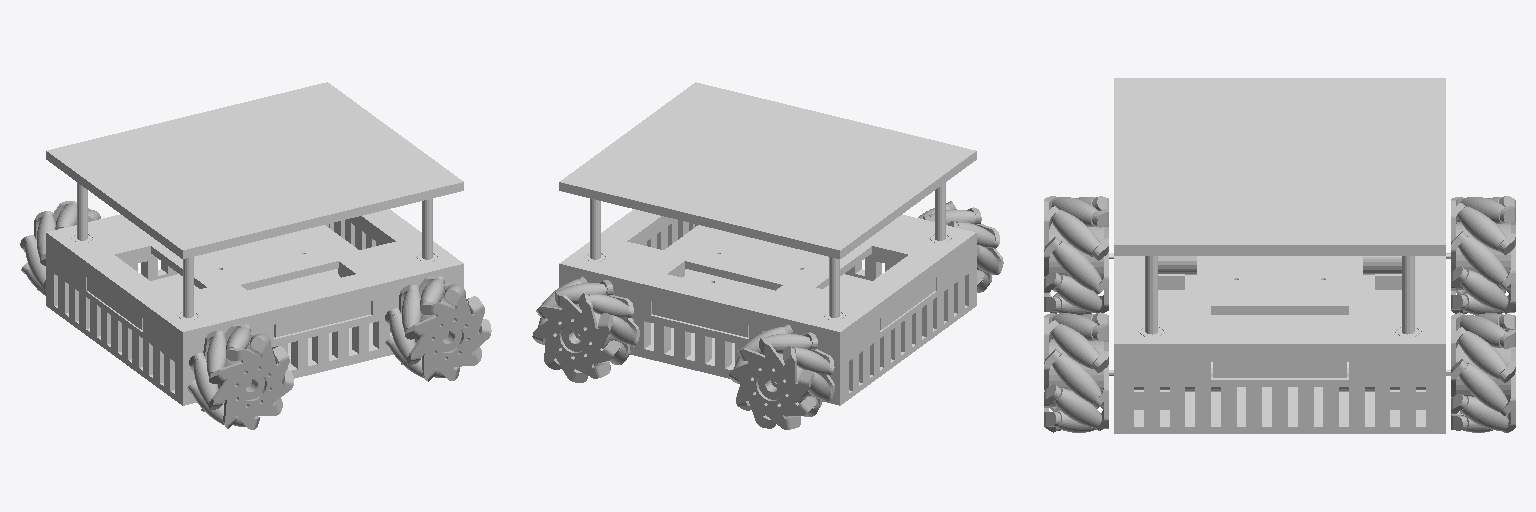
URDF robot description (bingo):
<?xml version="1.0" encoding="utf-8"?>
<robot name="bingo">

  <!-- ROS 2 Standard Root Frame (FLU: +X Forward, +Y Left, +Z Up) -->
  <link name="base_link"/>

  <!-- Rotate SolidWorks Y-up/Z-right chassis into ROS Z-up/Y-left -->
  <joint name="base_to_chassis" type="fixed">
    <parent link="base_link"/>
    <child link="Chassis_link"/>
    <origin xyz="0 0 0" rpy="1.5707963 0 0"/>
  </joint>

  <!-- IMU Frame (GY-521 / MPU-6050) — update xyz with measured mounting offset -->
  <link name="imu_link"/>
  <joint name="imu_joint" type="fixed">
    <parent link="base_link"/>
    <child link="imu_link"/>
    <origin xyz="0.0 0.0 0.085" rpy="0 0 0"/>
  </joint>

  <!-- RPLIDAR A1 Frame (matches frame_id:=laser in pi/run_lidar.sh) -->
  <link name="laser"/>
  <joint name="laser_joint" type="fixed">
    <parent link="base_link"/>
    <child link="laser"/>
    <origin xyz="0.0 0.0 0.11192" rpy="0 0 0"/>
  </joint>

  <link name="Chassis_link">
    <inertial>
      <origin xyz="-5.0647E-05 0.054223 3.6227E-06" rpy="0 0 0"/>
      <mass value="1.5726"/>
      <inertia ixx="0.0072629" ixy="1.4163E-07" ixz="6.3601E-07"
               iyy="0.016111" iyz="-8.8671E-09" izz="0.0091389"/>
    </inertial>
    <visual>
      <origin xyz="0 0 0" rpy="0 0 0"/>
      <geometry>
        <mesh filename="package://bingo_bringup/meshes/Chassis_link.STL"/>
      </geometry>
      <material name="chassis_grey">
        <color rgba="0.89412 0.89412 0.89412 1"/>
      </material>
    </visual>
    <collision>
      <origin xyz="0 0 0" rpy="0 0 0"/>
      <geometry>
        <mesh filename="package://bingo_bringup/meshes/Chassis_link.STL"/>
      </geometry>
    </collision>
  </link>

  <link name="front_left_wheel_link">
    <inertial>
      <origin xyz="4.9027E-05 -2.1678E-06 0.0089707" rpy="0 0 0"/>
      <mass value="0.1238"/>
      <inertia ixx="2.3671E-05" ixy="-3.4081E-11" ixz="-4.7721E-13"
               iyy="2.3671E-05" iyz="-2.4063E-12" izz="3.1205E-05"/>
    </inertial>
    <visual>
      <origin xyz="0 0 0" rpy="0 0 0"/>
      <geometry>
        <mesh filename="package://bingo_bringup/meshes/front_left_wheel_link.STL"/>
      </geometry>
      <material name="wheel_grey">
        <color rgba="0.75294 0.75294 0.75294 1"/>
      </material>
    </visual>
    <collision>
      <origin xyz="0 0 0" rpy="0 0 0"/>
      <geometry>
        <mesh filename="package://bingo_bringup/meshes/front_left_wheel_link.STL"/>
      </geometry>
    </collision>
  </link>

  <joint name="front_left_wheel_joint" type="continuous">
    <origin xyz="0.08884 0.02032 -0.13959" rpy="0 0 0"/>
    <parent link="Chassis_link"/>
    <child link="front_left_wheel_link"/>
    <axis xyz="0 0 1"/>
    <dynamics damping="0.01" friction="0"/>
  </joint>

  <link name="front_right_wheel_link">
    <inertial>
      <origin xyz="4.7975E-05 -1.0332E-05 -0.0089707" rpy="0 0 0"/>
      <mass value="0.1238"/>
      <inertia ixx="2.3671E-05" ixy="-7.661E-11" ixz="-1.7968E-13"
               iyy="2.3671E-05" iyz="-2.4774E-12" izz="3.1205E-05"/>
    </inertial>
    <visual>
      <origin xyz="0 0 0" rpy="0 0 0"/>
      <geometry>
        <mesh filename="package://bingo_bringup/meshes/front_right_wheel_link.STL"/>
      </geometry>
      <material name="wheel_grey">
        <color rgba="0.75294 0.75294 0.75294 1"/>
      </material>
    </visual>
    <collision>
      <origin xyz="0 0 0" rpy="0 0 0"/>
      <geometry>
        <mesh filename="package://bingo_bringup/meshes/front_right_wheel_link.STL"/>
      </geometry>
    </collision>
  </link>

  <joint name="front_right_wheel_joint" type="continuous">
    <origin xyz="0.08884 0.02032 0.1396" rpy="0 0 0"/>
    <parent link="Chassis_link"/>
    <child link="front_right_wheel_link"/>
    <axis xyz="0 0 -1"/>
    <dynamics damping="0.01" friction="0"/>
  </joint>

  <link name="back_left_wheel_link">
    <inertial>
      <origin xyz="4.8276E-05 8.8186E-06 0.0089707" rpy="0 0 0"/>
      <mass value="0.1238"/>
      <inertia ixx="2.3671E-05" ixy="6.3537E-11" ixz="9.3507E-14"
               iyy="2.3671E-05" iyz="-2.4816E-12" izz="3.1205E-05"/>
    </inertial>
    <visual>
      <origin xyz="0 0 0" rpy="0 0 0"/>
      <geometry>
        <mesh filename="package://bingo_bringup/meshes/back_left_wheel_link.STL"/>
      </geometry>
      <material name="wheel_grey">
        <color rgba="0.75294 0.75294 0.75294 1"/>
      </material>
    </visual>
    <collision>
      <origin xyz="0 0 0" rpy="0 0 0"/>
      <geometry>
        <mesh filename="package://bingo_bringup/meshes/back_left_wheel_link.STL"/>
      </geometry>
    </collision>
  </link>

  <joint name="back_left_wheel_joint" type="continuous">
    <origin xyz="-0.08896 0.02032 -0.13959" rpy="0 0 0"/>
    <parent link="Chassis_link"/>
    <child link="back_left_wheel_link"/>
    <axis xyz="0 0 1"/>
    <dynamics damping="0.01" friction="0"/>
  </joint>

  <link name="back_right_wheel_link">
    <inertial>
      <origin xyz="4.6914E-05 -1.4403E-05 -0.0089707" rpy="0 0 0"/>
      <mass value="0.1238"/>
      <inertia ixx="2.3671E-05" ixy="-1.1057E-10" ixz="-4.0162E-13"
               iyy="2.3671E-05" iyz="-2.4513E-12" izz="3.1205E-05"/>
    </inertial>
    <visual>
      <origin xyz="0 0 0" rpy="0 0 0"/>
      <geometry>
        <mesh filename="package://bingo_bringup/meshes/back_right_wheel_link.STL"/>
      </geometry>
      <material name="wheel_grey">
        <color rgba="0.75294 0.75294 0.75294 1"/>
      </material>
    </visual>
    <collision>
      <origin xyz="0 0 0" rpy="0 0 0"/>
      <geometry>
        <mesh filename="package://bingo_bringup/meshes/back_right_wheel_link.STL"/>
      </geometry>
    </collision>
  </link>

  <joint name="back_right_wheel_joint" type="continuous">
    <origin xyz="-0.08896 0.02032 0.1396" rpy="0 0 0"/>
    <parent link="Chassis_link"/>
    <child link="back_right_wheel_link"/>
    <axis xyz="0 0 -1"/>
    <dynamics damping="0.01" friction="0"/>
  </joint>

  <link name="lidar_link">
    <inertial>
      <origin xyz="0 0 0" rpy="0 0 0"/>
      <mass value="0.1"/>
      <inertia ixx="0.0001" ixy="0" ixz="0" iyy="0.0001" iyz="0" izz="0.0001"/>
    </inertial>
    <visual>
      <origin xyz="0 0 0" rpy="0 0 0"/>
      <geometry>
        <mesh filename="package://bingo_bringup/meshes/lidar_link.STL"/>
      </geometry>
      <material name="lidar_white">
        <color rgba="1 1 1 1"/>
      </material>
    </visual>
    <collision>
      <origin xyz="0 0 0" rpy="0 0 0"/>
      <geometry>
        <mesh filename="package://bingo_bringup/meshes/lidar_link.STL"/>
      </geometry>
    </collision>
  </link>

  <joint name="lidar_joint" type="fixed">
    <origin xyz="1.29147676376506E-05 0.111919999999918 -5.52029835741985E-05" rpy="0 0 0"/>
    <parent link="Chassis_link"/>
    <child link="lidar_link"/>
    <axis xyz="0 0 0"/>
  </joint>

</robot>

--- Render facts (derived) ---
Views: 3 orthographic renders of the robot side by side, from view 1: azimuth 30°, elevation 25°; view 2: azimuth 150°, elevation 25°; view 3: azimuth 270°, elevation 25°.
Model bingo with 9 links and 8 joints (4 continuous, 4 fixed), rooted at base_link, posed every joint at zero.
Visible links, largest first — view 1: Chassis_link, back_right_wheel_link, front_right_wheel_link, back_left_wheel_link; view 2: Chassis_link, front_left_wheel_link, back_left_wheel_link, back_right_wheel_link; view 3: Chassis_link, front_left_wheel_link, front_right_wheel_link, back_left_wheel_link, back_right_wheel_link.
Boxes of the visible links, x1=… form: Chassis_link: x1=46, y1=82, x2=463, y2=405; back_right_wheel_link: x1=187, y1=324, x2=293, y2=429; front_right_wheel_link: x1=385, y1=276, x2=491, y2=381; back_left_wheel_link: x1=20, y1=201, x2=100, y2=295; Chassis_link: x1=559, y1=82, x2=976, y2=405; front_left_wheel_link: x1=532, y1=276, x2=639, y2=382; back_left_wheel_link: x1=729, y1=324, x2=834, y2=429; back_right_wheel_link: x1=918, y1=201, x2=1003, y2=292; Chassis_link: x1=1109, y1=78, x2=1450, y2=433; front_left_wheel_link: x1=1451, y1=312, x2=1515, y2=432; front_right_wheel_link: x1=1044, y1=312, x2=1108, y2=432; back_left_wheel_link: x1=1451, y1=196, x2=1515, y2=314; back_right_wheel_link: x1=1044, y1=196, x2=1108, y2=314.
Bounding box of the posed robot: 0.2555 × 0.3032 × 0.1476 m (x, y, z).
Meshes: 6 distinct files referenced, 5 mesh visuals loaded (5 binary STL); not drawn: 1 (reference not matched to a file when rendering).
